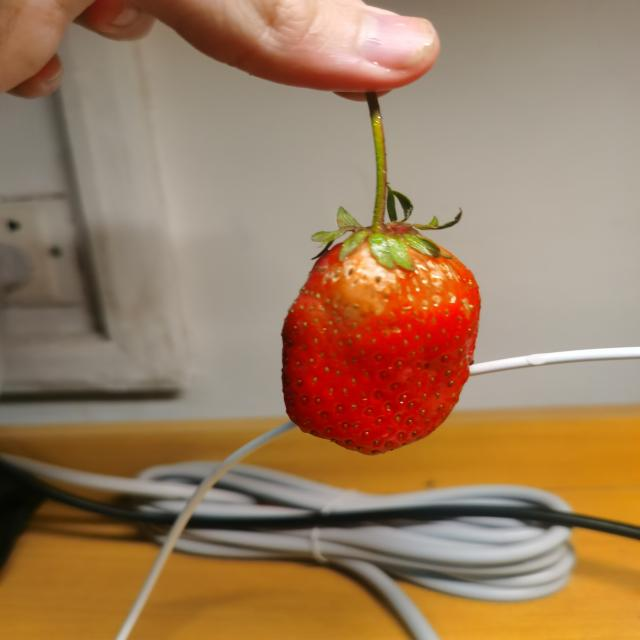stem: (371, 147, 386, 233)
strawberry: (281, 221, 481, 456)
